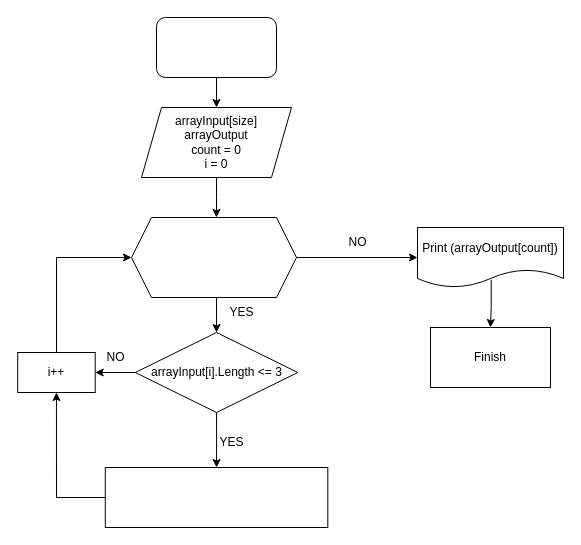
Image size: 581x545. Some labels were removed from this diagram. The shapes that lost their labels are listed below. From the top down, each one's centre as x and y in pixels, then its label:
(x=216, y=47): Start
(x=213, y=257): i <= arrayInput[size].Length
(x=216, y=497): arrayOutput[count] = arrayInput[size] count++
